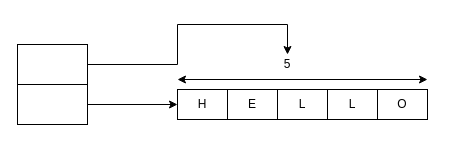
This 454x142 diagram has some shape labels left out. Here are the shapes that lost their labels. From the top down, the box of each, then its label:
(16, 44, 88, 84): len
(16, 84, 88, 124): data
